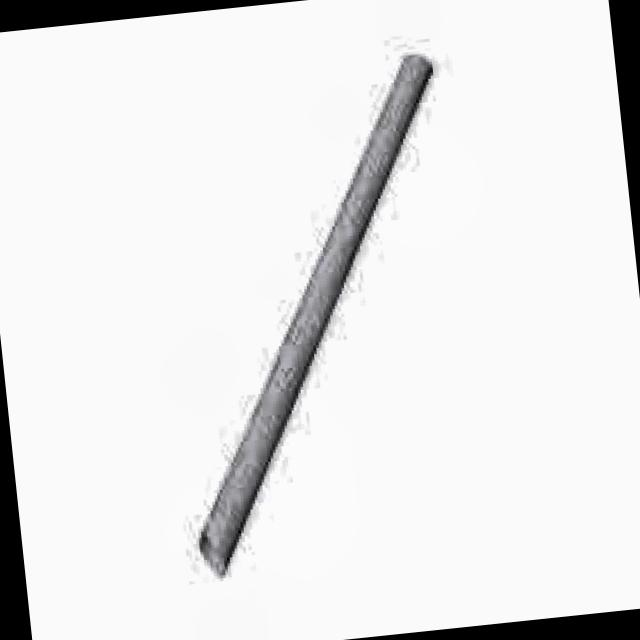plastic straw: (201, 56, 432, 574)
